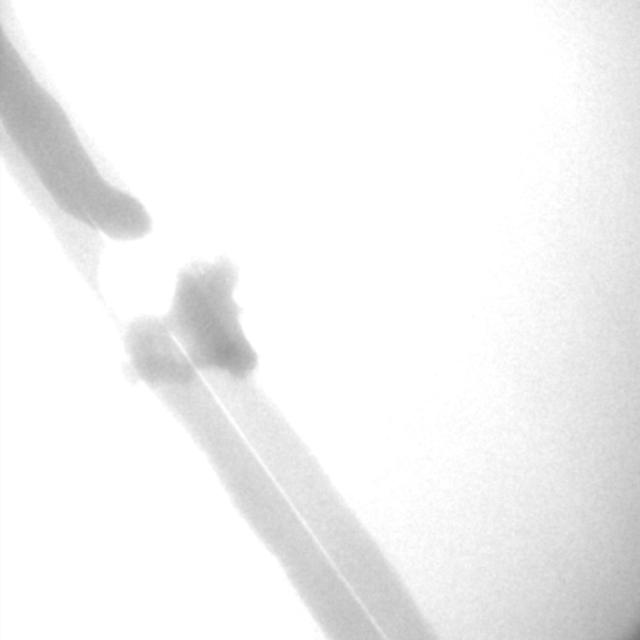broken arc: (95, 225, 384, 636)
